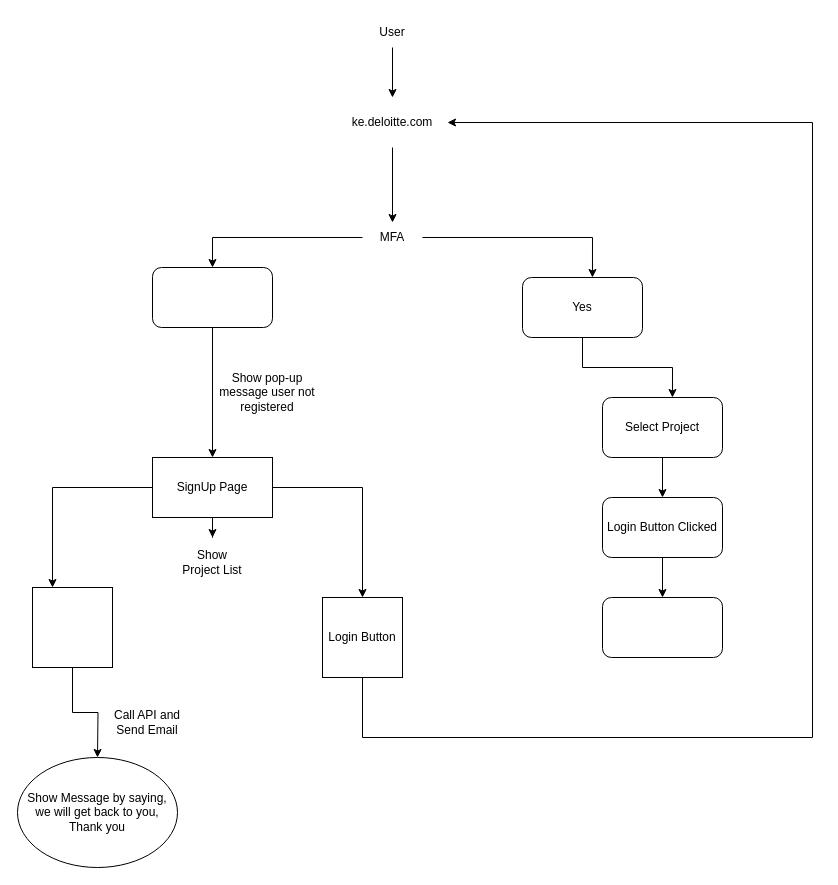
Image size: 838x885. Some labels were removed from this diagram. The shapes that lost their labels are listed below. From the top down, each one's centre as x and y in pixels, then its label:
the point at 212,297: No
the point at 72,627: Signup Button
the point at 662,627: Home Page
